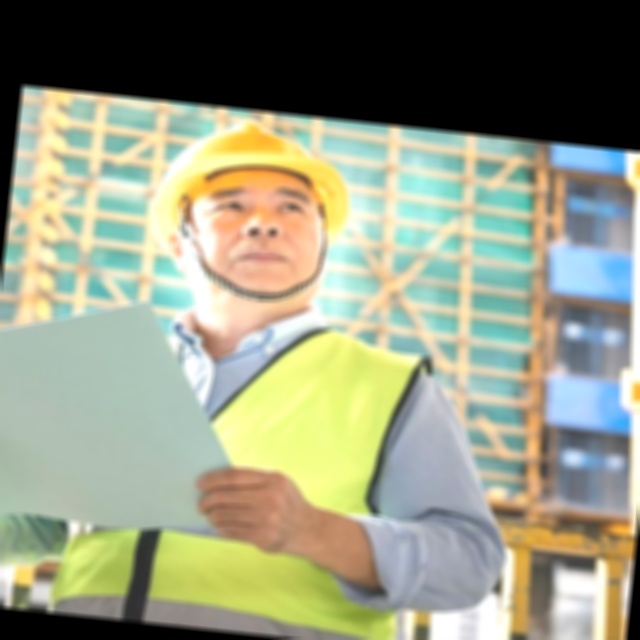Con_Casco: (143, 112, 361, 310)
Con_Chaleco: (50, 302, 450, 640)
